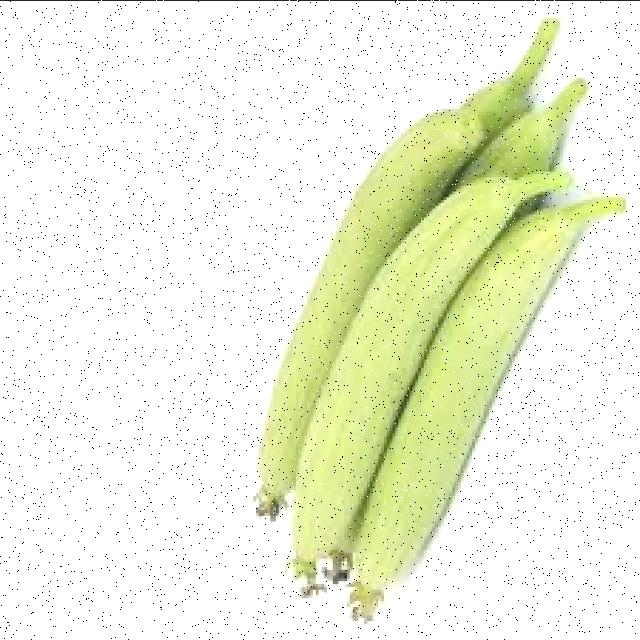Sponge Gourd: (340, 143, 626, 623), (215, 61, 492, 529), (257, 177, 536, 595)
